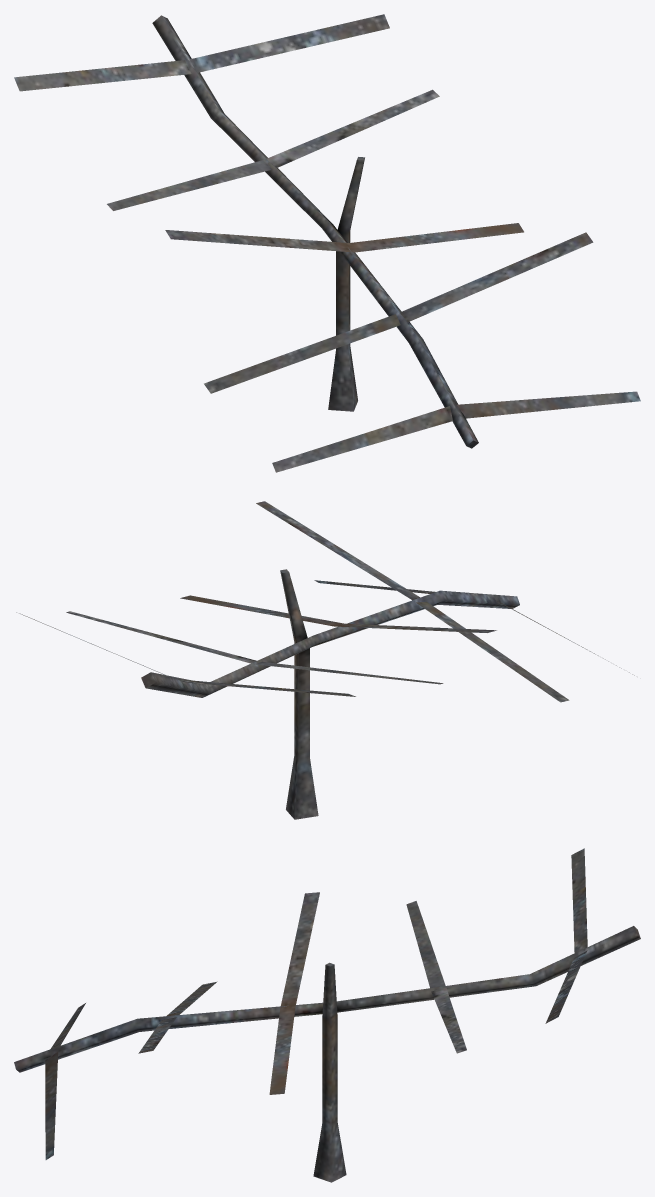
The model's file is Antenna_03.FBX.
3 renders of one model, top to bottom at view 1: azimuth 30°, elevation 25°; view 2: azimuth 150°, elevation 25°; view 3: azimuth 270°, elevation 25°, orthographic. The views are drawn at different scales.
Visible parts, largest first — view 1: Antenna_03; view 2: Antenna_03; view 3: Antenna_03.
Part boxes in pixels (x1,y1,x2,y2): Antenna_03: [14, 14, 640, 472]; Antenna_03: [16, 501, 634, 819]; Antenna_03: [14, 848, 640, 1182].
Size of the model in its own units: 105 by 72.38 by 168.
